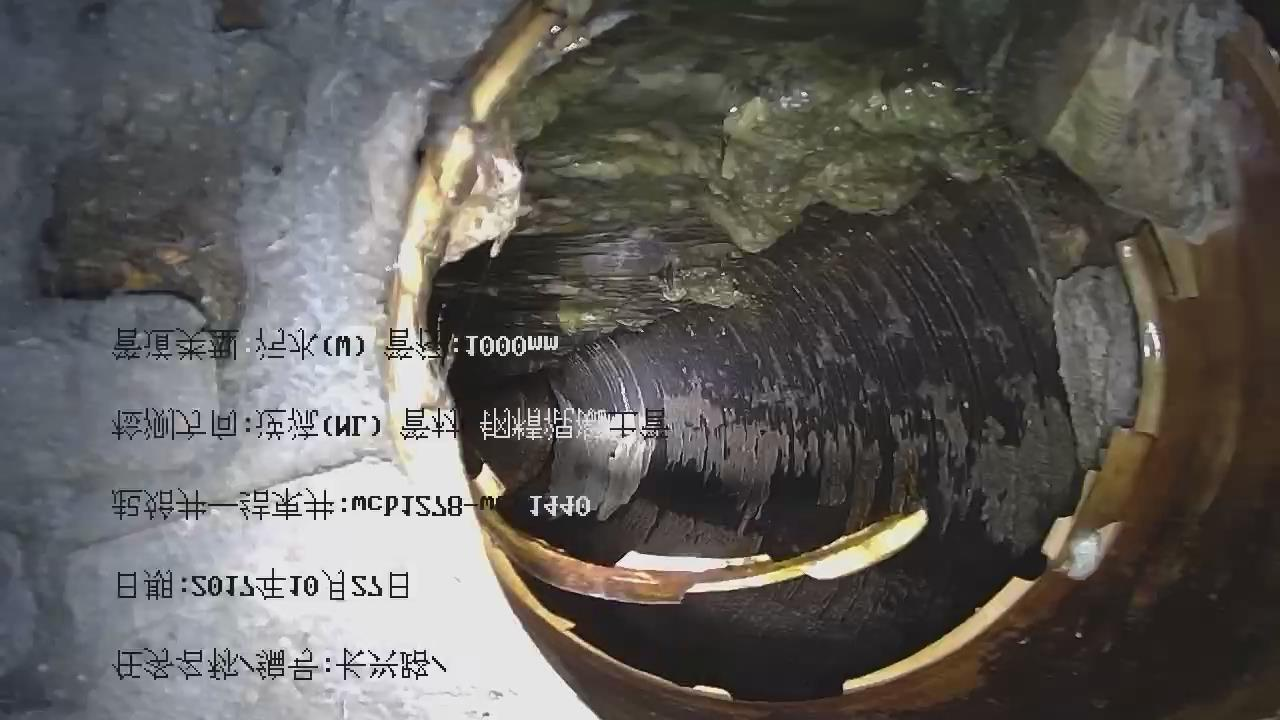CJ: (440, 1, 1028, 335)
JKCL: (480, 507, 926, 604)
